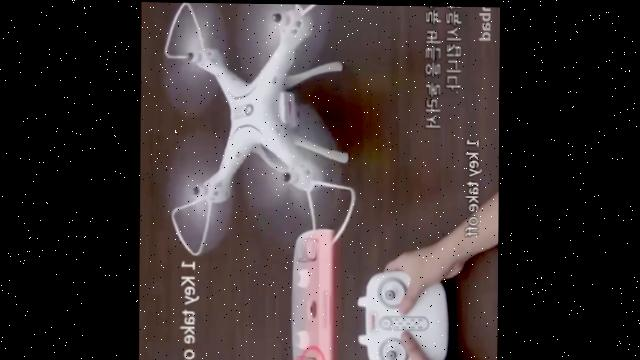drone: (156, 2, 358, 259)
